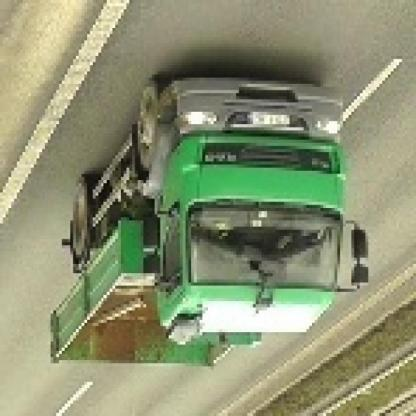truck: (52, 75, 370, 377)
